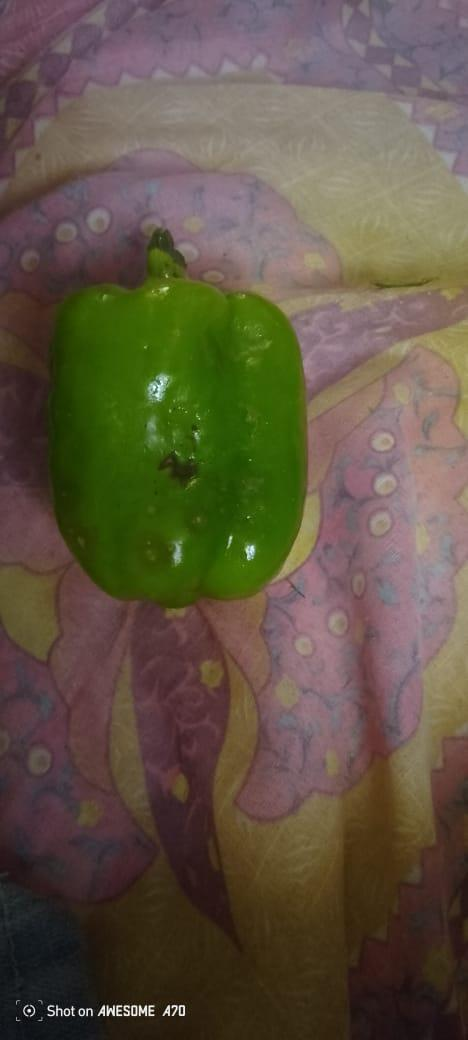non-mango: (40, 268, 309, 598)
